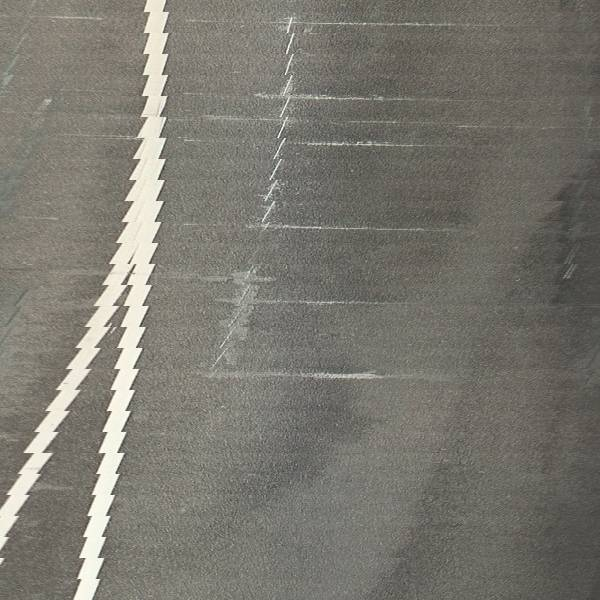road_damage: (546, 181, 591, 304)
